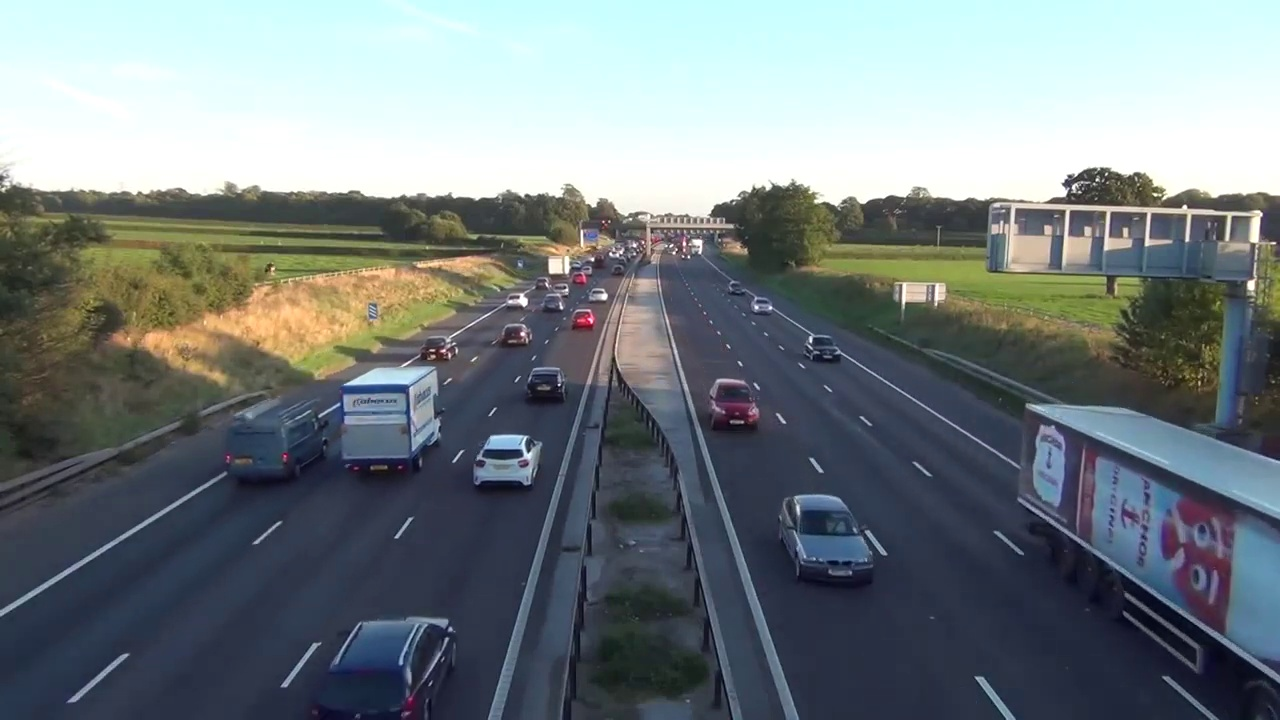bus: (305, 616, 455, 720), (777, 492, 877, 584), (471, 431, 543, 489), (706, 376, 762, 433), (526, 366, 566, 400), (803, 335, 843, 366), (420, 335, 459, 361), (500, 323, 534, 348), (541, 293, 566, 313), (573, 310, 597, 330), (751, 297, 774, 314), (505, 294, 529, 308), (588, 289, 610, 302), (728, 282, 745, 295), (553, 284, 569, 296)
car: (1018, 400, 1280, 720), (338, 366, 446, 473), (224, 402, 331, 483)
